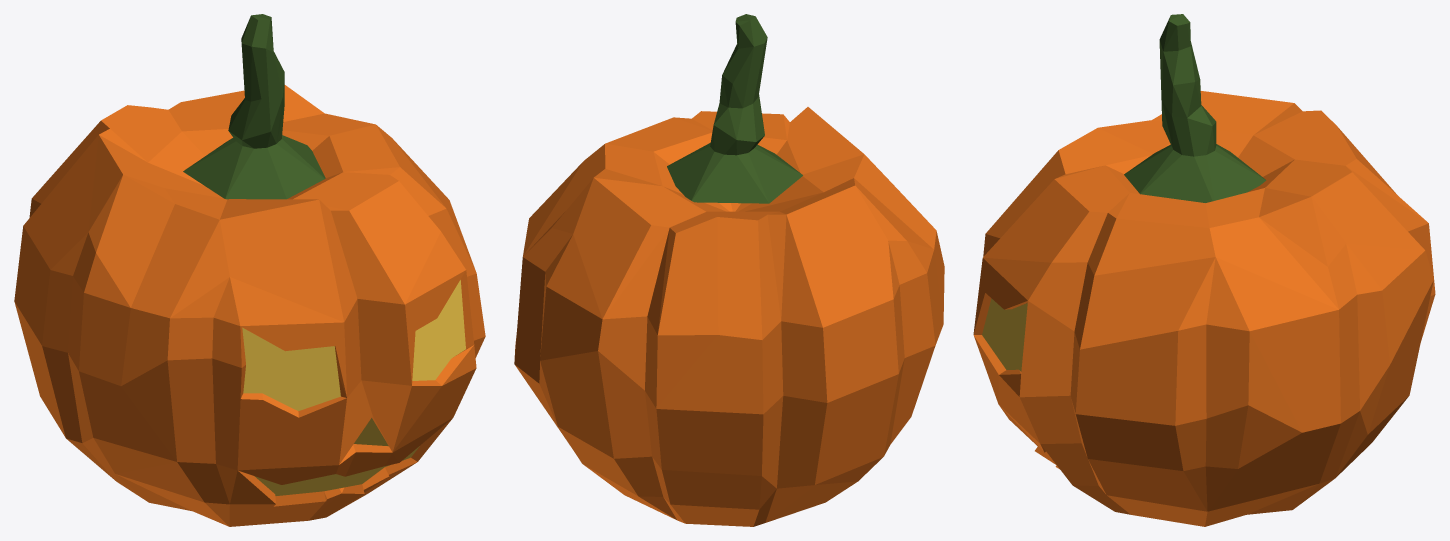
The model's file is 3d-oliveras-anna-carabassa.glb.
3 renders of one model, left to right at view 1: azimuth 30°, elevation 25°; view 2: azimuth 150°, elevation 25°; view 3: azimuth 270°, elevation 25°, orthographic. The views are drawn at different scales.
Visible parts, largest first — view 1: Cylinder.001; view 2: Cylinder.001; view 3: Cylinder.001.
Part boxes in pixels (<box>): Cylinder.001: <box>14,14,485,526</box>; Cylinder.001: <box>514,14,944,526</box>; Cylinder.001: <box>973,14,1435,526</box>.
Size of the model in its own units: 1.28 by 1.5 by 1.36.
1 material, 1 textured.
